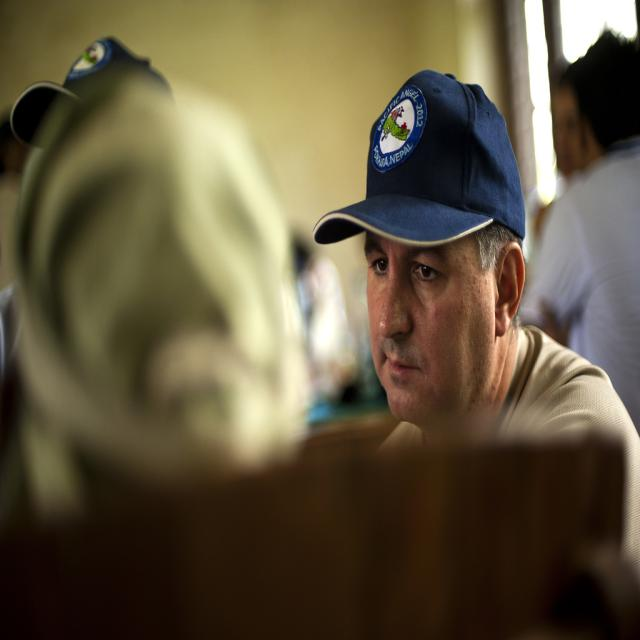Hat: (313, 67, 523, 246)
